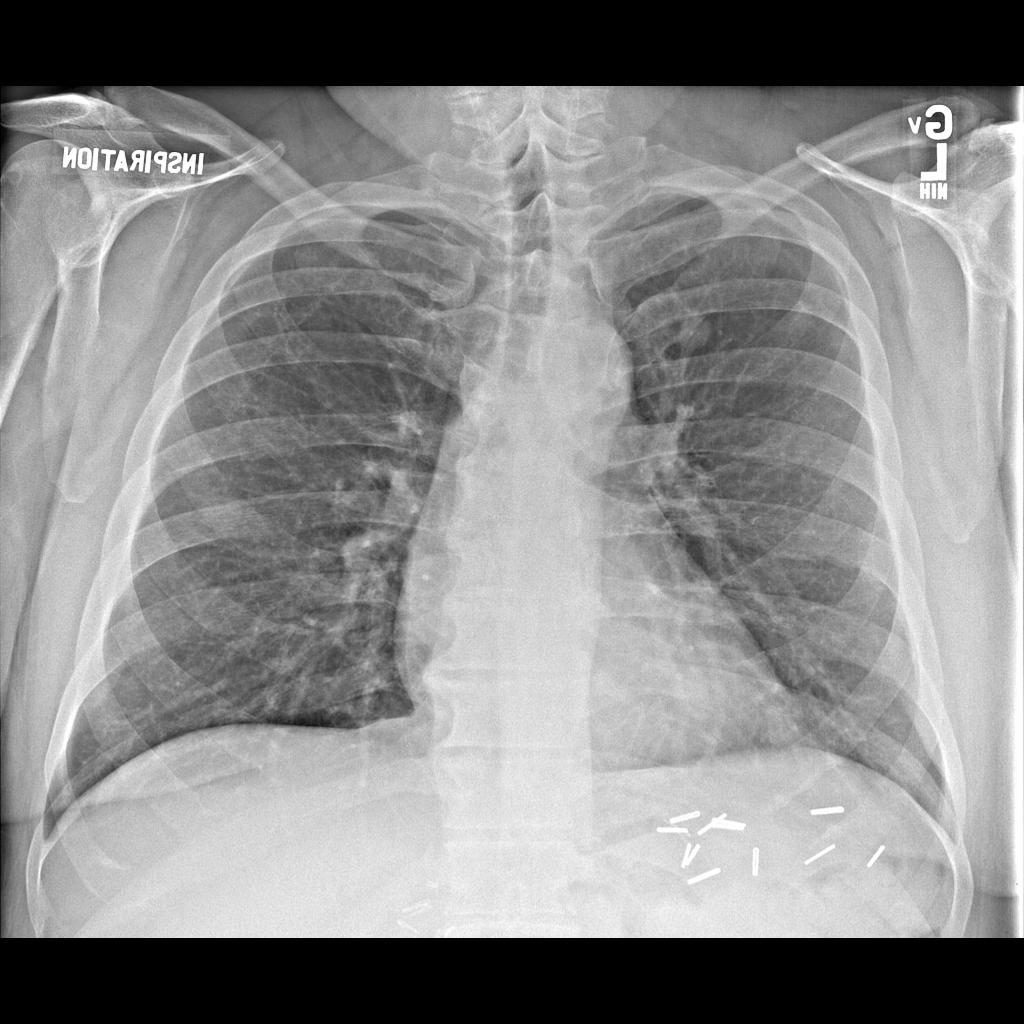Nodule: (676, 307, 717, 355)
